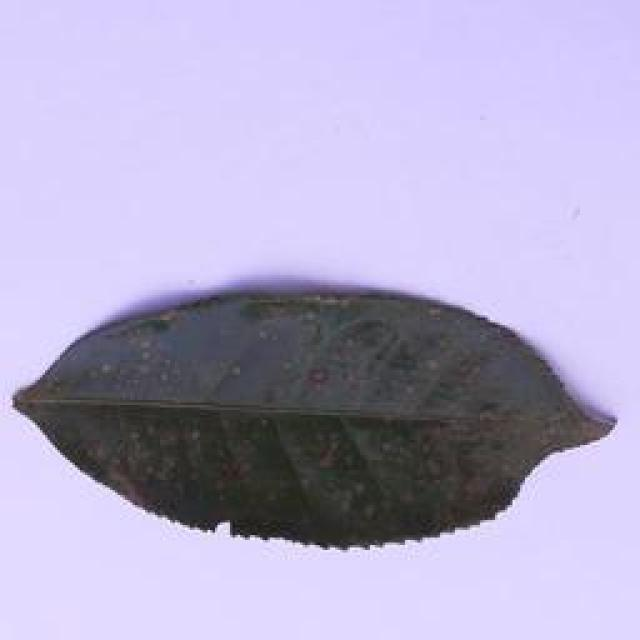Algal Leaf Spot: (18, 268, 628, 562)
